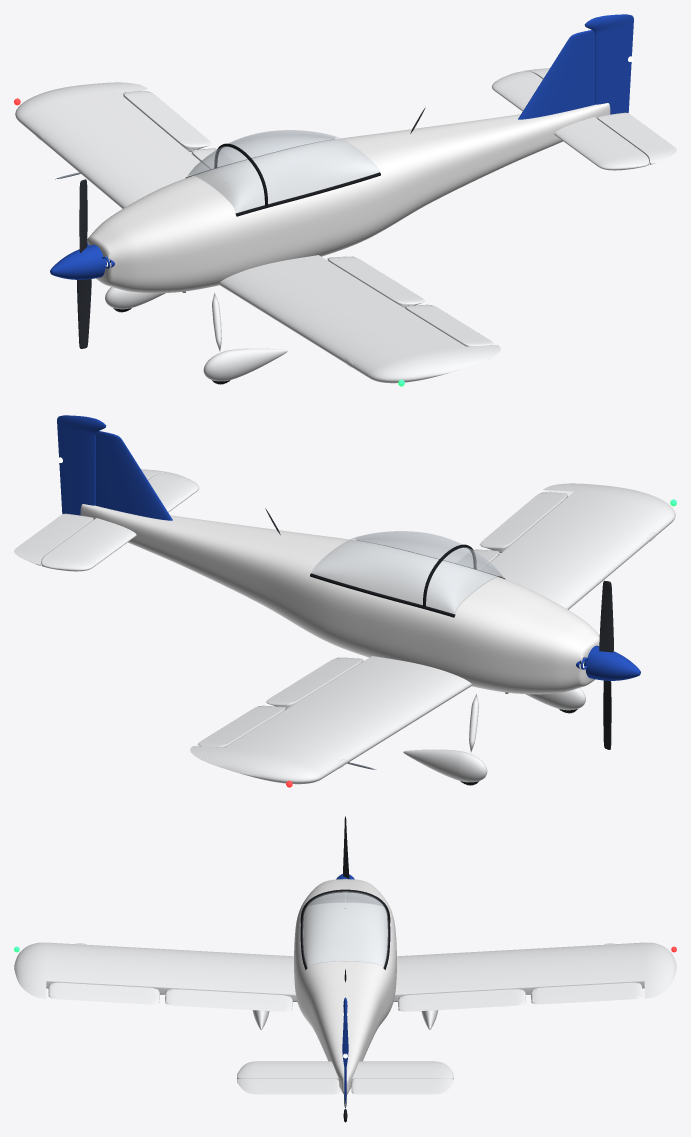
3 views of the same model, one above another, from view 1: azimuth 30°, elevation 25°; view 2: azimuth 150°, elevation 25°; view 3: azimuth 270°, elevation 25° (orthographic). The views are drawn at different scales.
Parts seen in each view (by area): view 1: Fuselage, Wing_R, Wing_L, Canopy, Fin, RudderPanel, HStab_R, WingTip_R, AileronPanel_L, WheelPant_R, ElevatorPanel_R, FlapPanel_R (+8 smaller); view 2: Fuselage, Wing_L, Wing_R, Canopy, Fin, RudderPanel, HStab_L, WingTip_L, AileronPanel_R, WheelPant_L, FlapPanel_L, ElevatorPanel_L (+8 smaller); view 3: Fuselage, Wing_L, Wing_R, Canopy, FlapPanel_L, FlapPanel_R, AileronPanel_L, AileronPanel_R, HStab_L, HStab_R, ElevatorPanel_R, ElevatorPanel_L (+2 smaller).
Part boxes in pixels (x1,y1,x2,y2): Fuselage: (87, 103, 610, 293); Wing_R: (218, 255, 465, 377); Wing_L: (19, 91, 209, 208); Canopy: (187, 130, 379, 213); Fin: (518, 30, 594, 119); RudderPanel: (584, 14, 633, 114); HStab_R: (554, 117, 649, 170); WingTip_R: (368, 345, 500, 383); AileronPanel_L: (123, 91, 210, 151); WheelPant_R: (203, 348, 287, 381); ElevatorPanel_R: (597, 112, 676, 164); FlapPanel_R: (327, 256, 424, 308); Fuselage: (80, 504, 599, 694); Wing_L: (225, 656, 472, 778); Wing_R: (481, 492, 671, 609); Canopy: (311, 531, 503, 614); Fin: (96, 431, 172, 520); RudderPanel: (57, 415, 106, 515); HStab_L: (41, 518, 136, 571); WingTip_L: (190, 746, 322, 784); AileronPanel_R: (480, 492, 567, 552); WheelPant_L: (403, 749, 487, 782); FlapPanel_L: (266, 657, 363, 709); ElevatorPanel_L: (14, 513, 93, 565); Fuselage: (294, 879, 396, 1094); Wing_L: (393, 942, 644, 1002); Wing_R: (46, 942, 297, 1002); Canopy: (302, 891, 388, 966); FlapPanel_L: (398, 989, 525, 1011); FlapPanel_R: (165, 989, 292, 1011); AileronPanel_L: (531, 982, 642, 1004); AileronPanel_R: (48, 982, 159, 1004); HStab_L: (352, 1061, 453, 1079); HStab_R: (237, 1061, 338, 1079); ElevatorPanel_R: (237, 1078, 339, 1094); ElevatorPanel_L: (351, 1078, 453, 1094).
Size of the model in its own units: 6.63 by 2.47 by 7.63.
